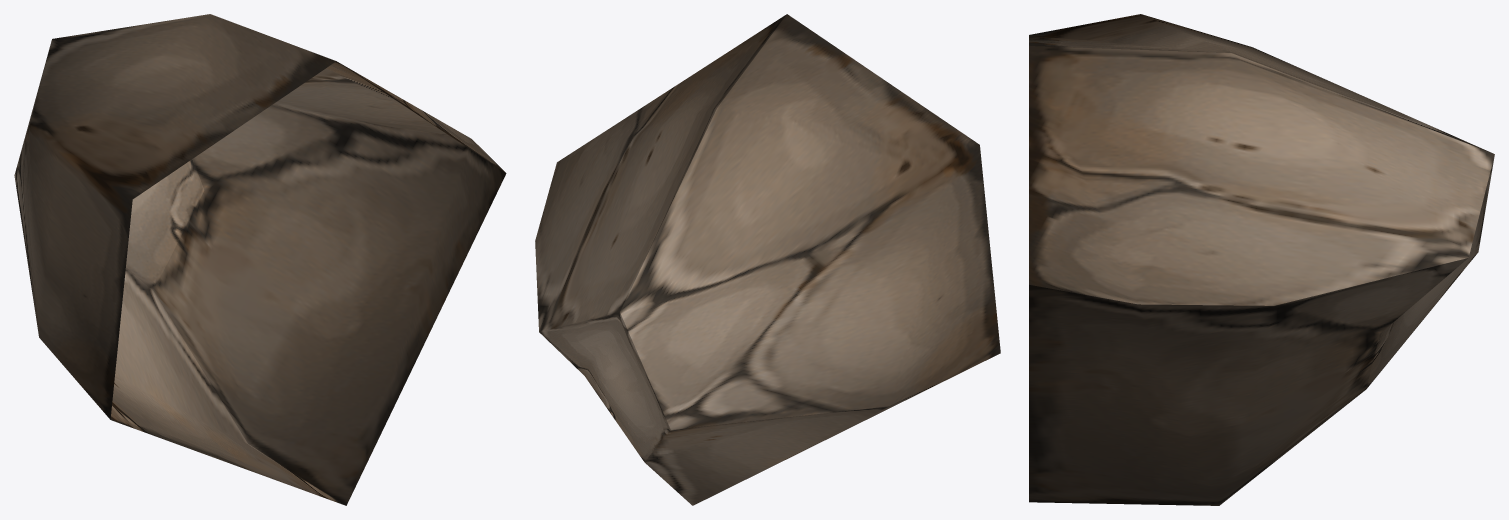
Rendered from Rock 03.FBX.
3 views of the same model, side by side, from view 1: azimuth 30°, elevation 25°; view 2: azimuth 150°, elevation 25°; view 3: azimuth 270°, elevation 25° (orthographic). The views are drawn at different scales.
Visible parts, largest first — view 1: env_rock03; view 2: env_rock03; view 3: env_rock03.
Boxes of the visible parts, x1=… form: env_rock03: x1=14, y1=14, x2=506, y2=505; env_rock03: x1=535, y1=14, x2=1000, y2=505; env_rock03: x1=1029, y1=14, x2=1494, y2=505.
Bounding box in the file's own units: 59.88 × 62.37 × 57.59.
